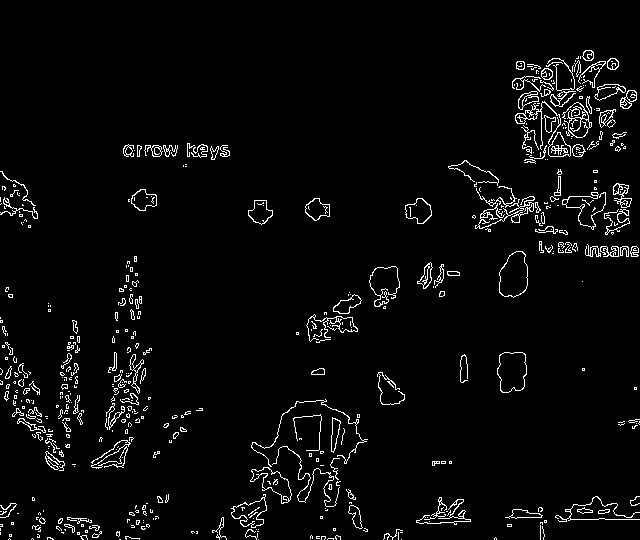down: (241, 192, 281, 232)
left: (122, 182, 167, 221), (296, 192, 335, 225)
right: (396, 192, 440, 229)
